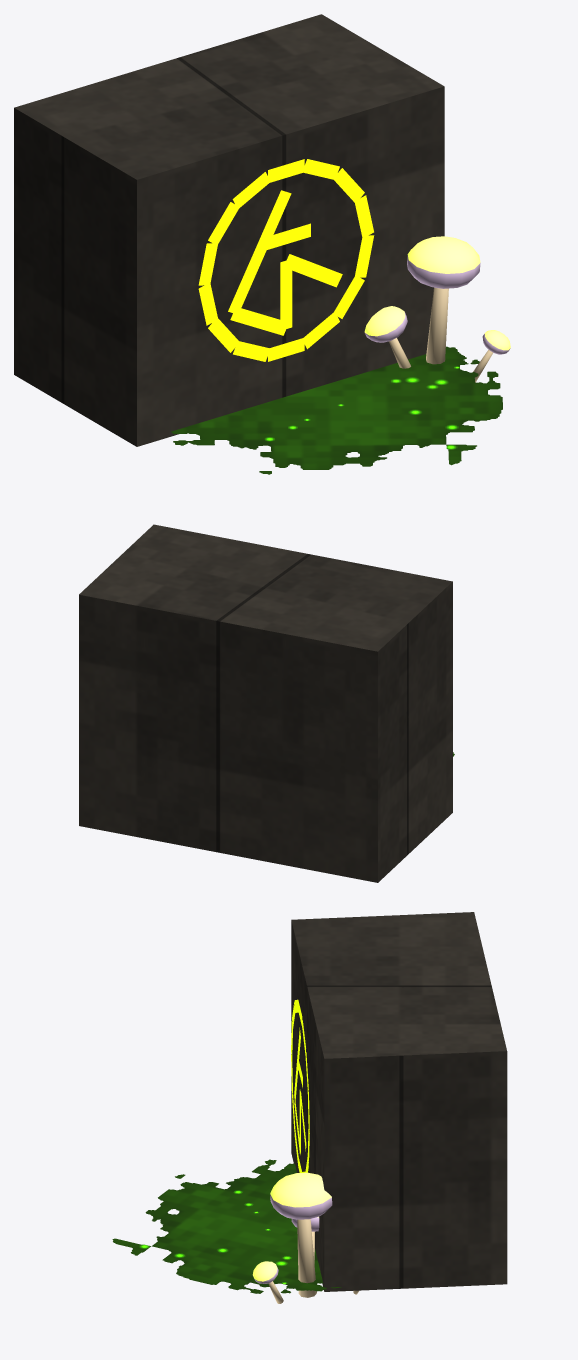
File: runenstein.glb
The picture shows the model from 3 angles, top to bottom: view 1: azimuth 30°, elevation 25°; view 2: azimuth 150°, elevation 25°; view 3: azimuth 270°, elevation 25°; orthographic projection. The views are drawn at different scales.
Visible parts, largest first — view 1: runenstein; view 2: runenstein; view 3: runenstein.
Boxes of the visible parts, x1,y1,x2,y2 form: runenstein: (14, 14, 510, 474); runenstein: (79, 524, 454, 882); runenstein: (112, 912, 507, 1303).
Size of the model in its own units: 1.5 by 0.7335 by 1.5.
6 materials, 2 textured.
